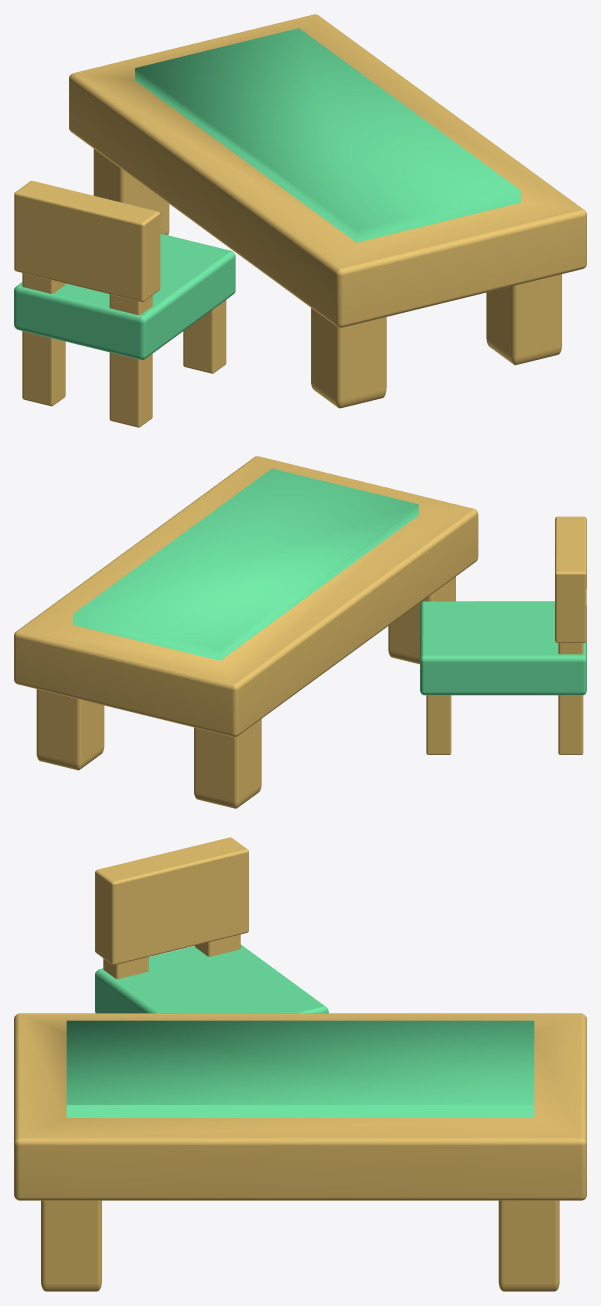
The model's file is table.glb.
3 renders of one model, top to bottom at view 1: azimuth 30°, elevation 25°; view 2: azimuth 150°, elevation 25°; view 3: azimuth 270°, elevation 25°, orthographic. The views are drawn at different scales.
Parts seen in each view (by area): view 1: 立方体, 立方体.005, 立方体.004, 立方体.003, 立方体.001, 立方体.008, 立方体.007, 立方体.002, 立方体.010; view 2: 立方体, 立方体.004, 立方体.002, 立方体.006, 立方体.005, 立方体.003, 立方体.007, 立方体.009; view 3: 立方体, 立方体.005, 立方体.004, 立方体.006, 立方体.001, 立方体.008, 立方体.007.
Boxes of the visible parts, box(x1,y1,x2,y2) form: 立方体: box(69, 14, 586, 327); 立方体.005: box(14, 181, 160, 301); 立方体.004: box(14, 233, 235, 359); 立方体.003: box(311, 308, 386, 408); 立方体.001: box(486, 274, 561, 365); 立方体.008: box(109, 294, 152, 427); 立方体.007: box(22, 273, 65, 406); 立方体.002: box(93, 149, 169, 235); 立方体.010: box(183, 300, 226, 373); 立方体: box(14, 456, 478, 737); 立方体.004: box(420, 601, 586, 695); 立方体.002: box(194, 719, 261, 808); 立方体.006: box(36, 689, 104, 770); 立方体.005: box(555, 516, 586, 642); 立方体.003: box(388, 576, 455, 664); 立方体.007: box(558, 643, 583, 754); 立方体.009: box(426, 695, 451, 754); 立方体: box(14, 1013, 586, 1200); 立方体.005: box(95, 837, 248, 965); 立方体.004: box(95, 944, 328, 1013); 立方体.006: box(498, 1200, 559, 1291); 立方体.001: box(41, 1200, 101, 1291); 立方体.008: box(103, 957, 148, 978); 立方体.007: box(195, 934, 240, 956).
Size of what is drawn, in the model's own units: 3.77 by 1.6 by 3.76.
